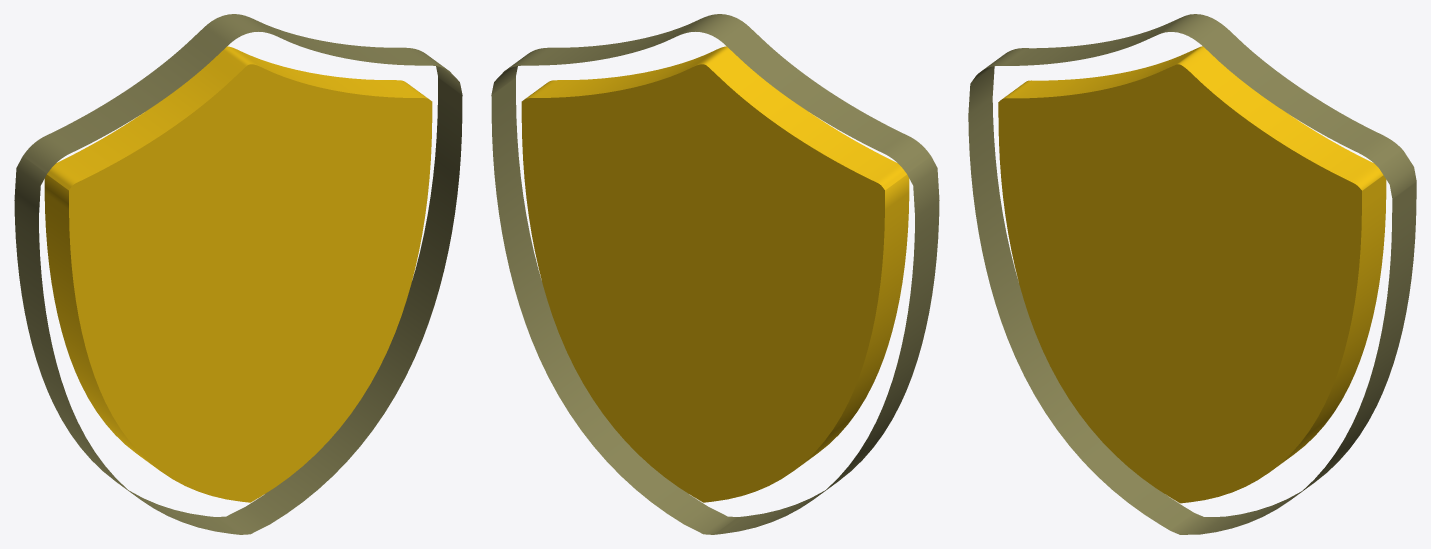
Rendered from shield.fbx.
The picture shows the model from 3 angles, left to right: view 1: azimuth 30°, elevation 25°; view 2: azimuth 150°, elevation 25°; view 3: azimuth 330°, elevation 25°; orthographic projection.
Parts seen in each view (by area): view 1: Curve, Curve.001; view 2: Curve, Curve.001; view 3: Curve, Curve.001.
Boxes of the visible parts, x1,y1,x2,y2 form: Curve: (44,46,432,502); Curve.001: (14,14,462,534); Curve: (521,46,909,502); Curve.001: (491,14,939,534); Curve: (998,46,1386,503); Curve.001: (968,14,1416,534).
Size of the model in its own units: 201 by 227 by 20.
